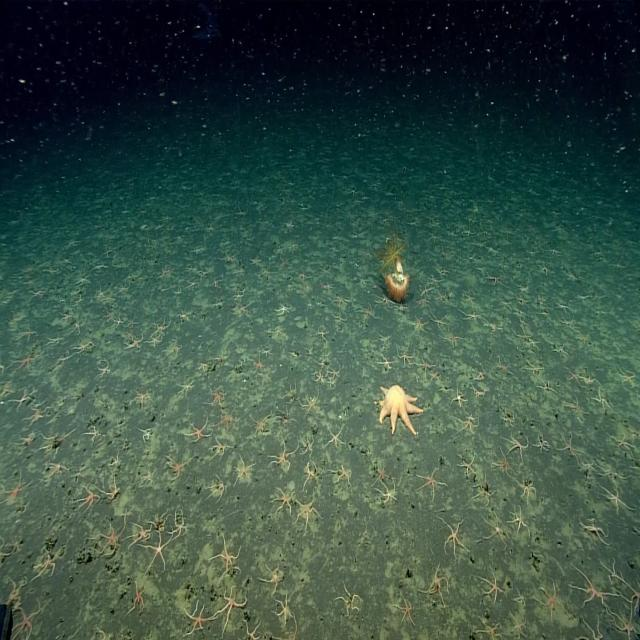brittle-stars: (570, 567, 608, 609), (93, 518, 126, 556), (216, 588, 247, 628), (214, 535, 243, 573), (14, 601, 42, 639), (144, 532, 172, 568), (1, 471, 30, 505), (613, 573, 640, 609), (442, 519, 466, 555), (335, 582, 361, 615), (35, 546, 60, 578), (184, 604, 212, 632), (536, 584, 560, 616), (425, 568, 448, 601), (559, 432, 582, 465), (416, 470, 443, 498), (484, 514, 506, 548), (41, 432, 68, 457), (271, 441, 296, 468), (394, 594, 415, 626), (602, 482, 625, 511), (612, 613, 637, 639), (76, 485, 100, 512), (296, 496, 317, 526), (504, 431, 528, 457), (481, 572, 501, 603), (473, 476, 495, 504), (272, 483, 293, 512), (510, 506, 530, 536), (582, 518, 605, 544), (129, 524, 153, 548), (205, 475, 228, 500), (188, 417, 210, 443), (7, 576, 28, 602), (492, 446, 511, 474), (165, 456, 186, 481), (602, 458, 622, 484), (14, 353, 42, 371), (234, 458, 253, 484), (276, 593, 293, 622), (478, 618, 501, 639), (456, 414, 479, 435), (262, 566, 282, 590), (217, 406, 237, 430), (129, 585, 146, 613), (378, 478, 396, 504), (49, 458, 72, 478), (300, 393, 320, 416), (612, 432, 633, 453), (457, 453, 476, 476), (13, 388, 33, 409), (255, 413, 271, 438), (27, 404, 49, 422), (302, 462, 319, 485), (510, 612, 525, 638), (105, 478, 121, 502), (334, 464, 352, 485), (171, 515, 186, 539), (17, 324, 37, 342), (210, 438, 228, 458), (524, 359, 543, 377), (125, 334, 143, 352), (416, 356, 434, 374), (258, 368, 275, 387), (520, 479, 536, 499), (452, 388, 468, 408), (459, 307, 479, 323), (285, 383, 300, 404), (430, 312, 448, 329), (209, 387, 225, 406), (136, 388, 151, 408), (328, 427, 343, 447), (302, 433, 315, 456), (398, 347, 412, 368), (165, 339, 182, 356), (357, 302, 374, 319), (47, 332, 65, 348), (95, 360, 111, 378), (154, 317, 170, 335), (565, 396, 581, 414), (514, 584, 527, 606), (75, 338, 92, 354), (177, 379, 194, 395), (594, 391, 610, 408), (378, 294, 394, 311), (411, 315, 426, 332), (443, 330, 460, 345), (533, 434, 547, 452), (496, 356, 510, 374), (142, 465, 155, 484), (253, 352, 265, 372), (377, 354, 393, 369), (86, 426, 103, 440), (276, 301, 290, 318), (20, 432, 36, 446), (462, 288, 476, 304), (472, 365, 485, 382), (146, 334, 164, 346), (125, 313, 138, 329), (620, 368, 633, 384), (12, 534, 22, 554), (158, 264, 172, 278), (232, 289, 246, 303), (566, 369, 580, 383), (486, 272, 501, 285), (95, 283, 106, 300), (186, 277, 199, 291), (140, 427, 152, 442), (322, 280, 337, 292), (333, 295, 348, 307), (375, 465, 387, 480), (235, 303, 249, 315), (250, 252, 262, 266), (298, 269, 310, 283), (584, 459, 596, 473), (76, 274, 89, 286), (184, 263, 196, 276), (420, 284, 433, 296), (556, 301, 568, 313), (212, 275, 221, 290), (315, 370, 325, 383), (330, 367, 340, 380), (328, 379, 337, 388)
